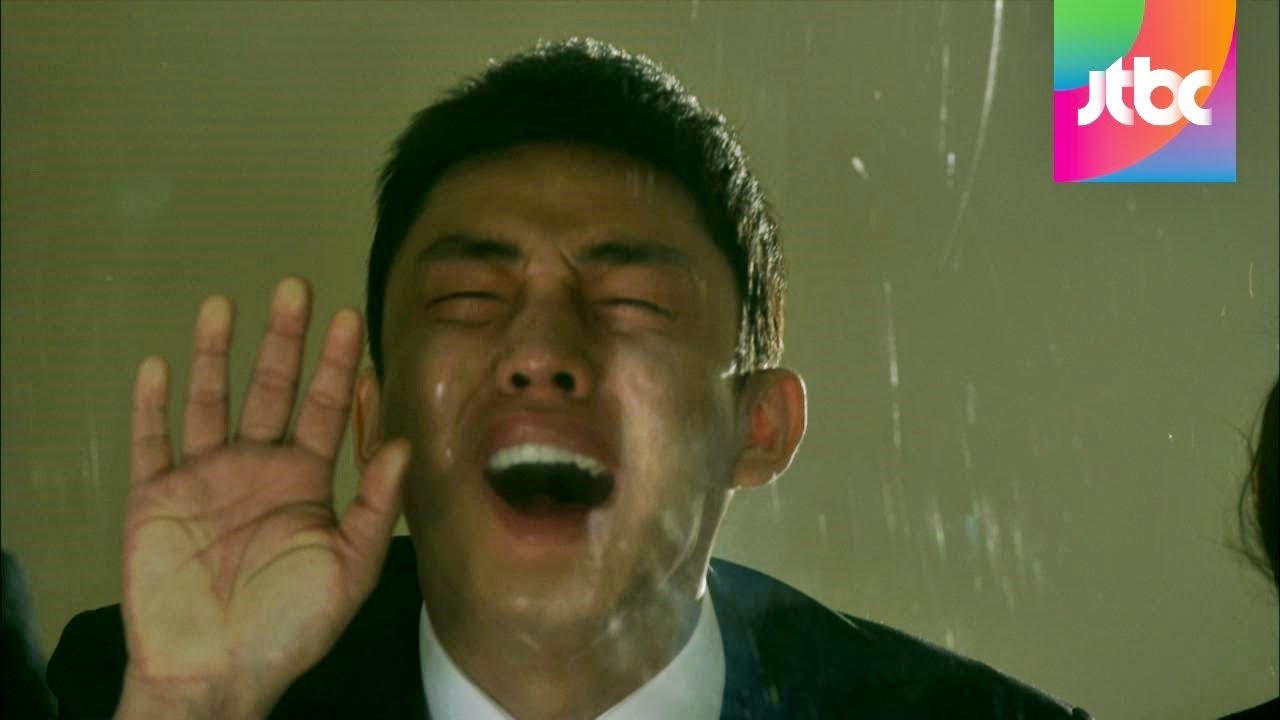sad: (396, 156, 720, 618)
